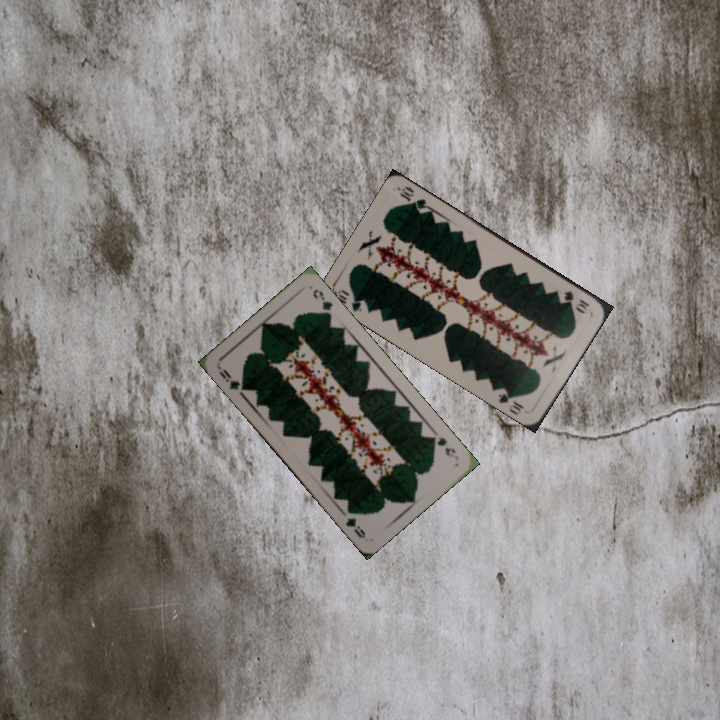G10: (332, 285, 371, 314), (560, 286, 592, 316)
G9: (214, 363, 250, 398), (426, 427, 461, 461)
